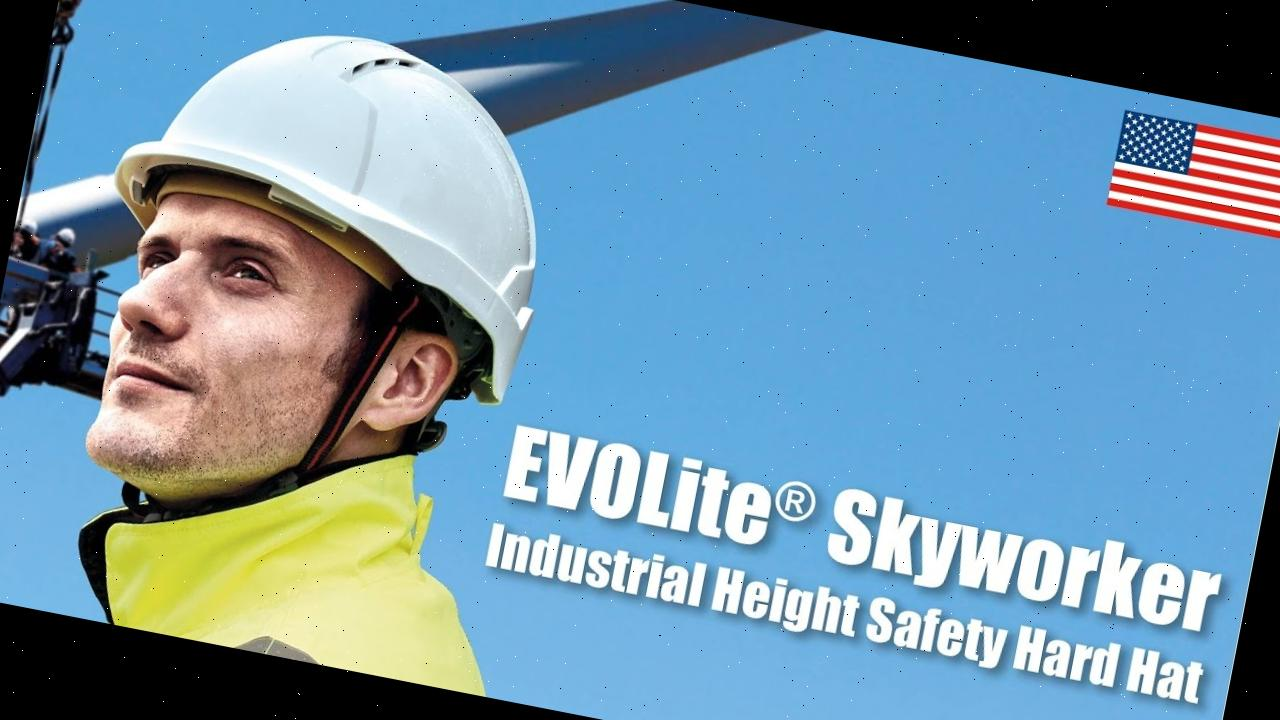helmet: (79, 0, 575, 408)
